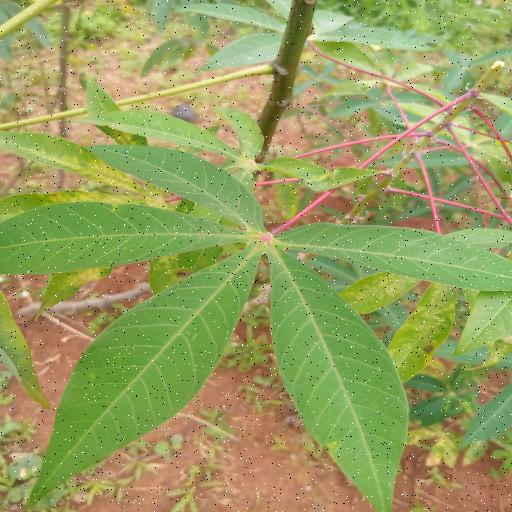Cassava_Healthy: (2, 139, 512, 512)
